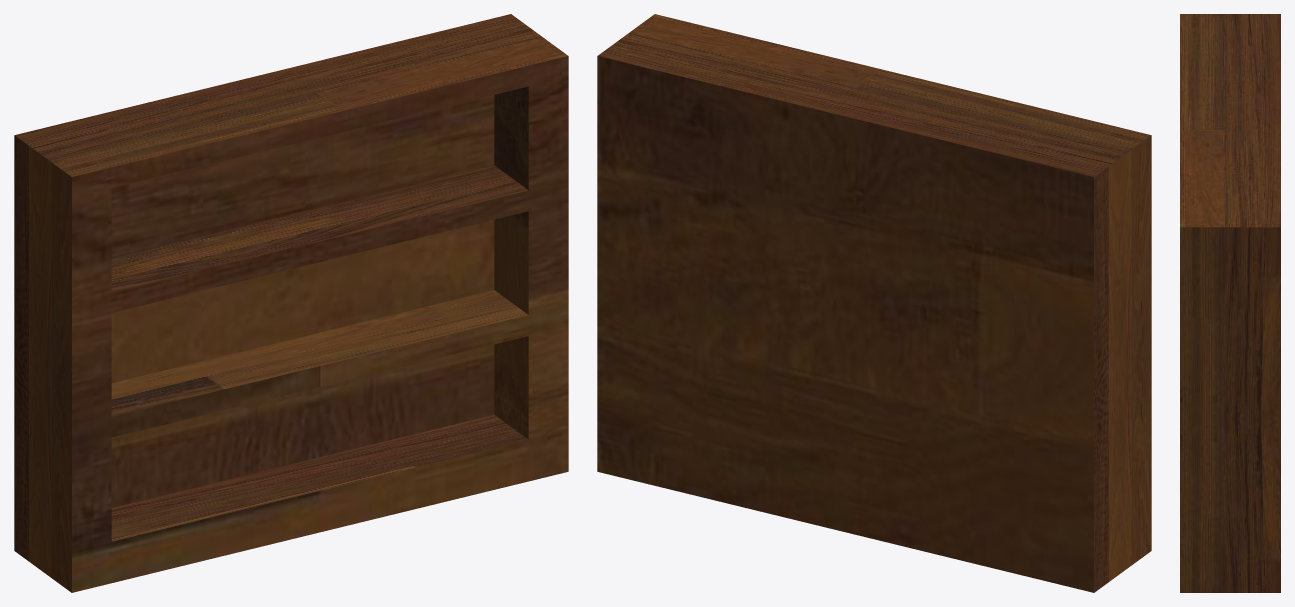
Rendered from bookshelfmati.fbx.
3 renders of one model, left to right at view 1: azimuth 30°, elevation 25°; view 2: azimuth 150°, elevation 25°; view 3: azimuth 270°, elevation 25°, orthographic. The views are drawn at different scales.
Visible parts, largest first — view 1: Cube; view 2: Cube; view 3: Cube.
Part boxes in pixels (x1,y1,x2,y2): Cube: (14,14,568,592); Cube: (597,14,1151,592); Cube: (1180,14,1280,592).
Bounding box in the file's own units: 250 × 200 × 50.
